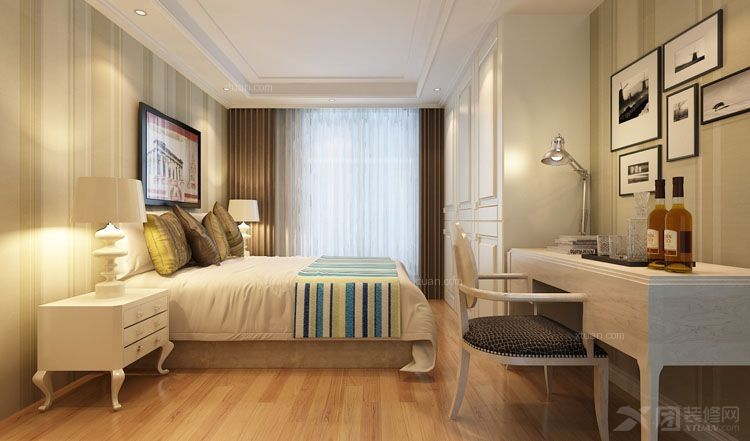床: (145, 255, 427, 371)
枕头: (134, 211, 237, 271)
灯: (73, 177, 144, 298), (542, 132, 602, 240), (226, 197, 261, 255), (129, 8, 148, 20), (220, 86, 231, 94)
